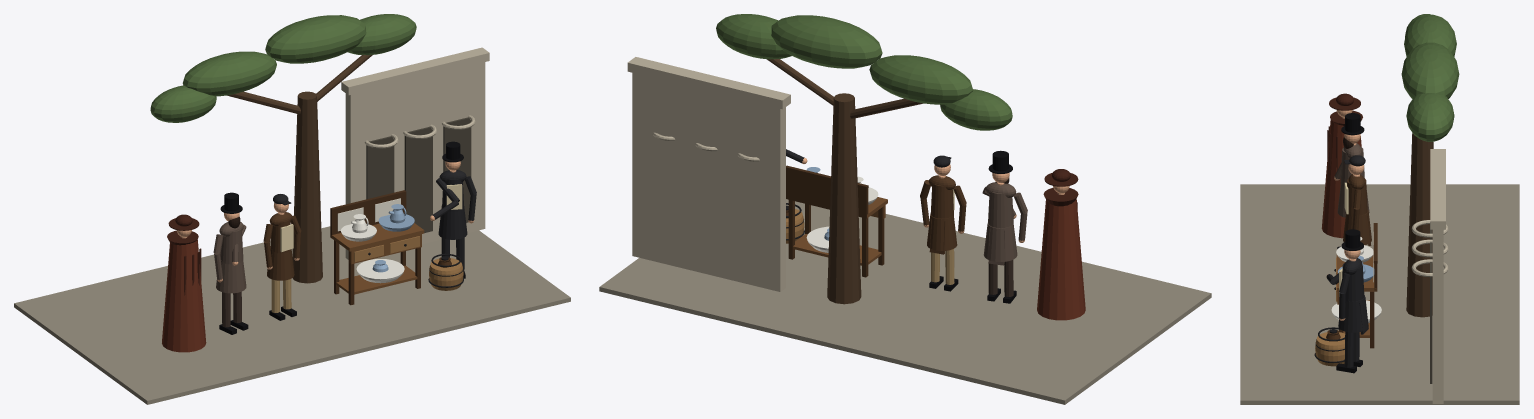
File: scan-fig60-hint-to-the-commissioners-muse.glb
3 renders of one model, left to right at view 1: azimuth 30°, elevation 25°; view 2: azimuth 150°, elevation 25°; view 3: azimuth 270°, elevation 25°, orthographic. The views are drawn at different scales.
Visible parts, largest first — view 1: Ground, ArcadeWall, TreeTrunk, Robe_body, Canopy_1, Canopy_0, ArchDark_1, ArcadeCornice, Canopy_2, Canopy_3, ArchDark_0, ArchDark_2 (+11 smaller); view 2: Ground, ArcadeWall, TreeTrunk, Robe_body, Canopy_1, Canopy_0, ArcadeCornice, Canopy_2, Canopy_3, WS_back, Check_coatskirt, Cap_coatskirt (+4 smaller); view 3: Ground, TreeTrunk, Canopy_1, ArcadeWall, Canopy_2, Robe_body, Canopy_0, ArcadeCornice, Attendant_coatskirt, Bucket, Attendant_torso, Cap_coatskirt (+11 smaller).
Part boxes in pixels (bbox=[...]): Ground: bbox=[14, 226, 570, 404]; ArcadeWall: bbox=[345, 62, 485, 259]; TreeTrunk: bbox=[292, 91, 322, 283]; Robe_body: bbox=[162, 239, 206, 352]; Canopy_1: bbox=[265, 15, 366, 63]; Canopy_0: bbox=[182, 51, 276, 96]; ArchDark_1: bbox=[404, 126, 432, 232]; ArcadeCornice: bbox=[341, 47, 489, 95]; Canopy_2: bbox=[347, 14, 416, 55]; Canopy_3: bbox=[150, 85, 216, 122]; ArchDark_0: bbox=[366, 136, 394, 199]; ArchDark_2: bbox=[443, 117, 471, 222]; Ground: bbox=[599, 199, 1211, 404]; ArcadeWall: bbox=[632, 73, 785, 291]; TreeTrunk: bbox=[827, 93, 861, 304]; Robe_body: bbox=[1037, 199, 1085, 320]; Canopy_1: bbox=[771, 15, 882, 68]; Canopy_0: bbox=[869, 55, 973, 104]; ArcadeCornice: bbox=[627, 57, 790, 109]; Canopy_2: bbox=[716, 14, 791, 59]; Canopy_3: bbox=[940, 89, 1012, 130]; WS_back: bbox=[786, 170, 868, 218]; Check_coatskirt: bbox=[983, 223, 1017, 261]; Cap_coatskirt: bbox=[927, 214, 957, 250]; Ground: bbox=[1240, 184, 1519, 404]; TreeTrunk: bbox=[1406, 133, 1433, 317]; Canopy_1: bbox=[1401, 42, 1459, 98]; ArcadeWall: bbox=[1432, 229, 1443, 403]; Canopy_2: bbox=[1406, 93, 1454, 141]; Robe_body: bbox=[1321, 119, 1361, 238]; Canopy_0: bbox=[1404, 14, 1456, 56]; ArcadeCornice: bbox=[1430, 149, 1445, 229]; Attendant_coatskirt: bbox=[1338, 295, 1368, 332]; Bucket: bbox=[1315, 332, 1345, 366]; Attendant_torso: bbox=[1342, 263, 1364, 301]; Cap_coatskirt: bbox=[1343, 209, 1371, 245].
Size of the model in its own units: 6.75 by 3.79 by 3.6.
